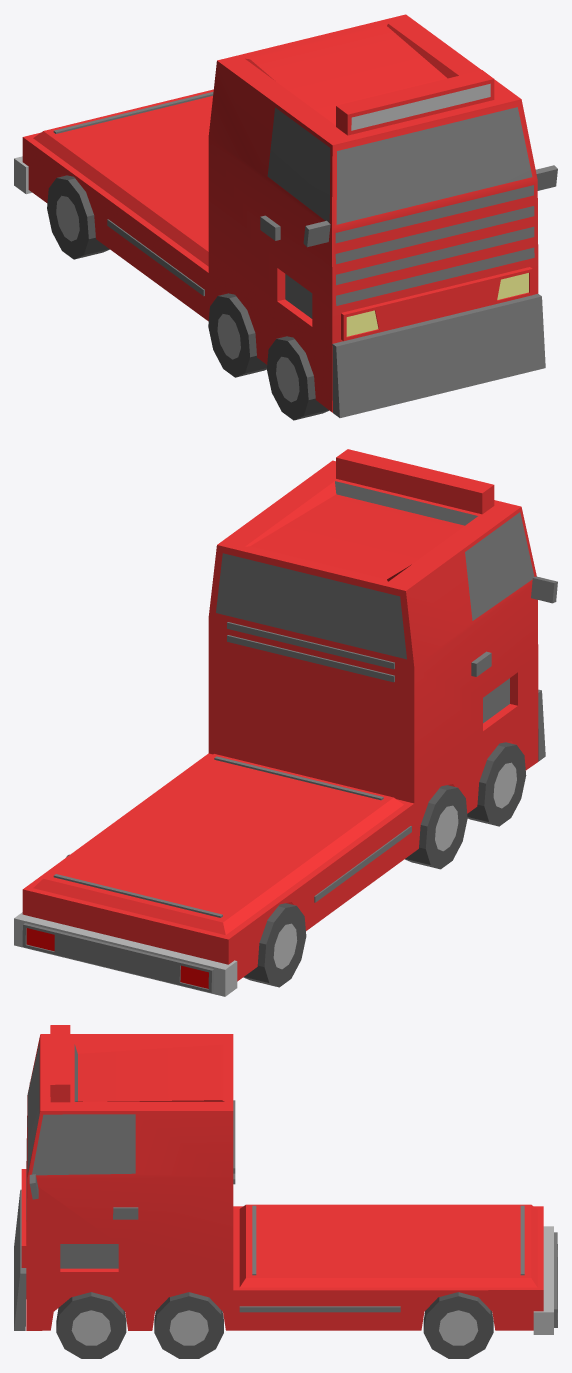
File: SM_Truck_01_03.FBX
3 views of the same model, one above another, from view 1: azimuth 30°, elevation 25°; view 2: azimuth 150°, elevation 25°; view 3: azimuth 270°, elevation 25° (orthographic). The views are drawn at different scales.
Visible parts, largest first — view 1: SM_Truck_01_03, SM_Wheel_RBack, SM_Wheel_RFront, SM_Wheel_RMid; view 2: SM_Truck_01_03, SM_Wheel_RMid, SM_Wheel_RBack, SM_Wheel_RFront; view 3: SM_Truck_01_03, SM_Wheel_LFront001, SM_Wheel_LBack, SM_Wheel_LMid.
Boxes of the visible parts, x1,y1,x2,y2 form: SM_Truck_01_03: (14,14,557,417); SM_Wheel_RBack: (47,175,109,259); SM_Wheel_RFront: (267,336,328,420); SM_Wheel_RMid: (208,293,267,377); SM_Truck_01_03: (14,449,557,996); SM_Wheel_RMid: (405,785,467,869); SM_Wheel_RBack: (243,903,306,987); SM_Wheel_RFront: (467,742,526,826); SM_Truck_01_03: (14,1025,557,1334); SM_Wheel_LFront001: (56,1292,126,1358); SM_Wheel_LBack: (423,1292,493,1358); SM_Wheel_LMid: (154,1292,223,1358).
Size of the model in its own units: 1.85 by 2.21 by 4.19.
1 material, 1 textured.
